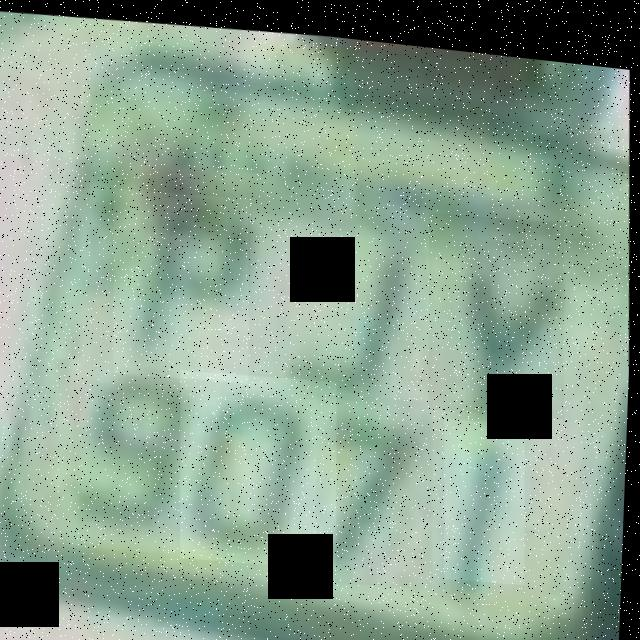0: (177, 360, 345, 566)
1: (442, 405, 533, 576)
7: (314, 380, 441, 583)
9: (65, 350, 230, 557)
J: (261, 200, 420, 391)
P: (110, 180, 256, 382)
Y: (424, 198, 572, 410)
